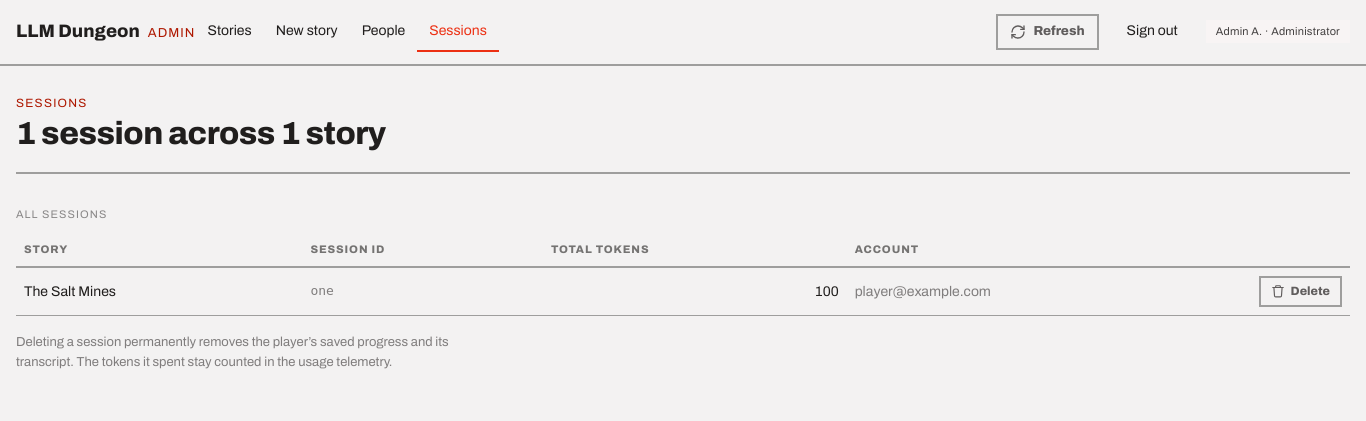
Test: Admin Sessions refresh (031 FR-016; 019-spa-refresh-button) › keeps the previously loaded table visible behind a notice when a refresh fails
This screenshot has width=1366, height=421.
Expected: the text "one" is shown, [302,267,543,315]
Step 1. Click the button "Refresh" → (1047, 32), box [996,14,1099,50]
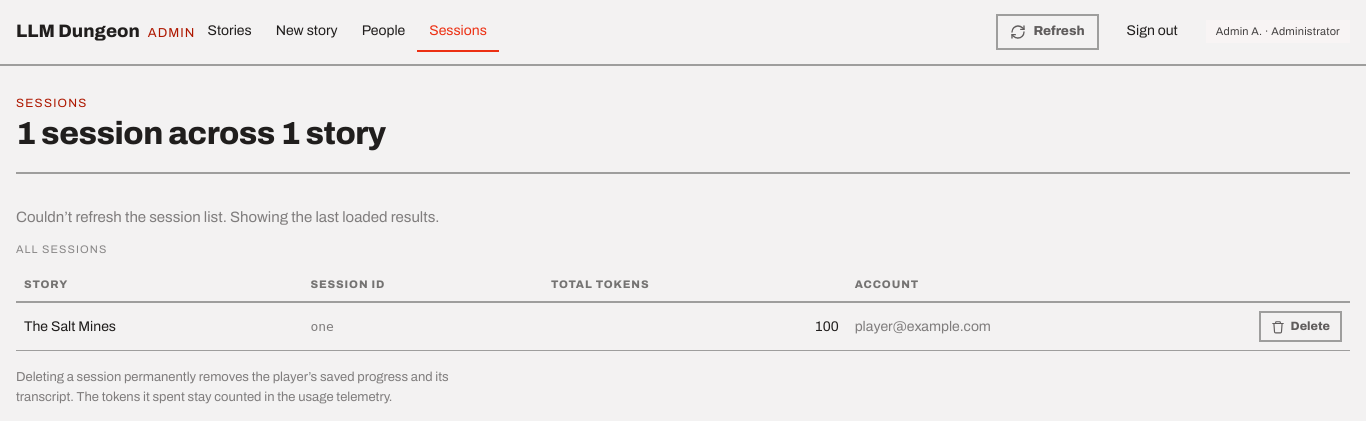
Expected: the text "one" is shown, [302,302,543,350]
Result: the message "Couldn’t refresh the session list. Showing the last loaded results." is shown at [16,209,440,225]
